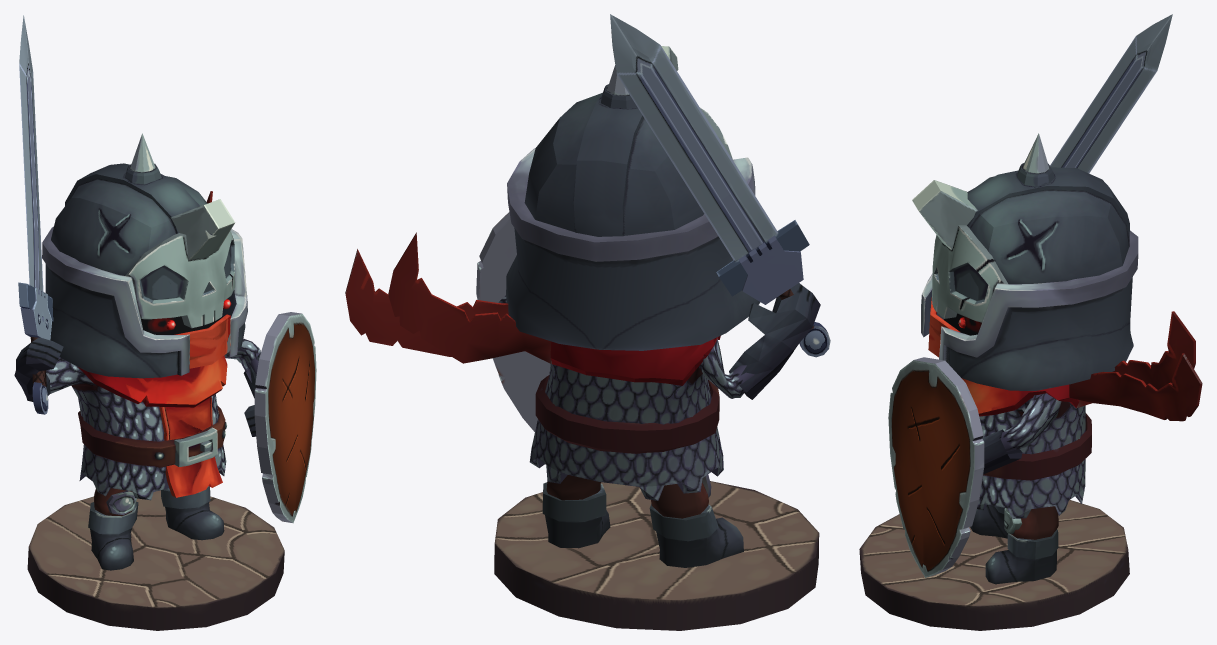
3 views of the same model, side by side, from view 1: azimuth 30°, elevation 25°; view 2: azimuth 150°, elevation 25°; view 3: azimuth 270°, elevation 25° (orthographic). The views are drawn at different scales.
Parts seen in each view (by area): view 1: mWisson_week_12_SkullKnight_01_for_rig:Object003; view 2: mWisson_week_12_SkullKnight_01_for_rig:Object003; view 3: mWisson_week_12_SkullKnight_01_for_rig:Object003.
Part boxes in pixels (x1=…): mWisson_week_12_SkullKnight_01_for_rig:Object003: x1=14, y1=15, x2=316, y2=630; mWisson_week_12_SkullKnight_01_for_rig:Object003: x1=345, y1=14, x2=830, y2=630; mWisson_week_12_SkullKnight_01_for_rig:Object003: x1=859, y1=14, x2=1202, y2=630.
Size of the model in its own units: 147 by 256 by 147.
